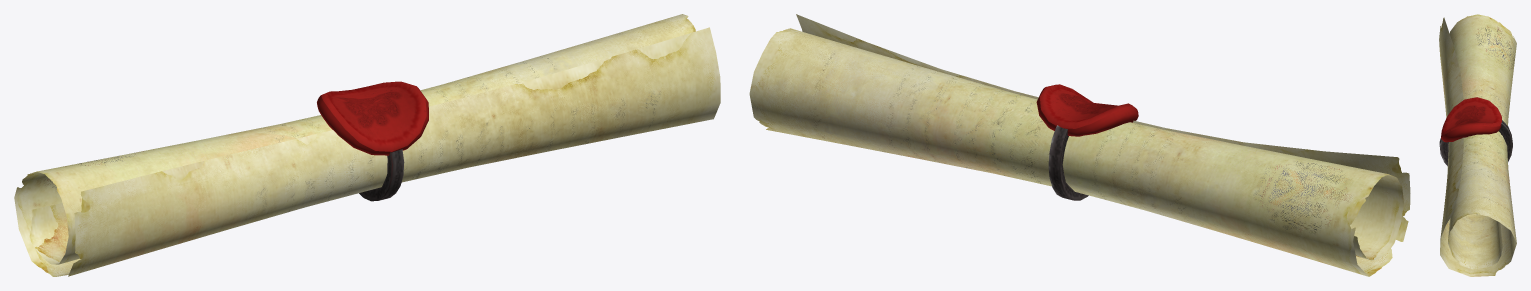
The model's file is scroll.glb.
The picture shows the model from 3 angles, left to right: view 1: azimuth 30°, elevation 25°; view 2: azimuth 150°, elevation 25°; view 3: azimuth 270°, elevation 25°; orthographic projection. The views are drawn at different scales.
Visible parts, largest first — view 1: Scroll_LP; view 2: Scroll_LP; view 3: Scroll_LP.
Part boxes in pixels (<box>): Scroll_LP: <box>14,14,720,276</box>; Scroll_LP: <box>749,14,1410,276</box>; Scroll_LP: <box>1439,14,1516,276</box>.
Bounding box in the file's own units: 0.5 × 0.0786 × 0.0823.
Materials: 1 (1 with a texture image).
